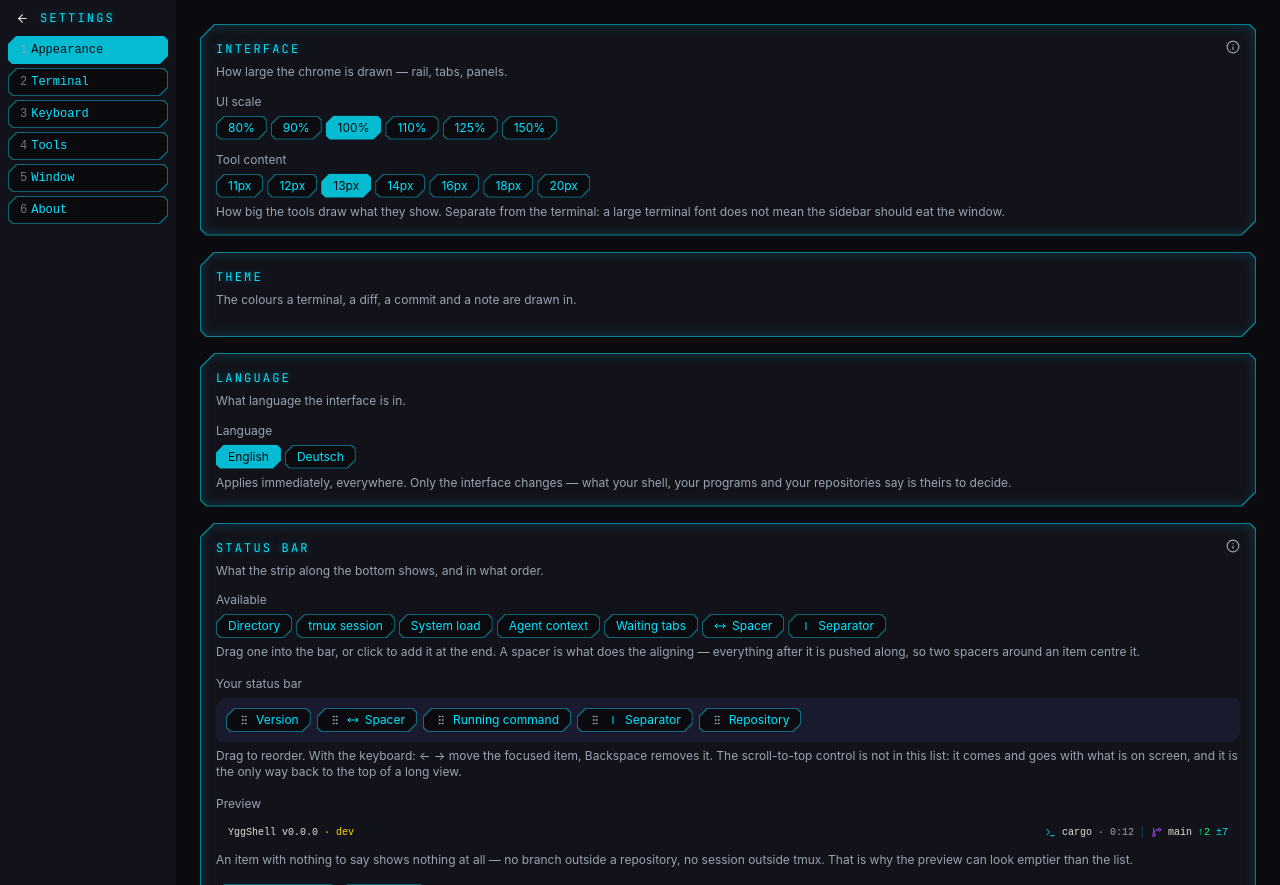
it: SettingsView › shows only the selected section
Check: the button "100%" is shown, box [326,116,381,140]
Check: the button "Quit app" is not shown
Click the tab "5Window" at (88, 178), box [8,164,168,192]
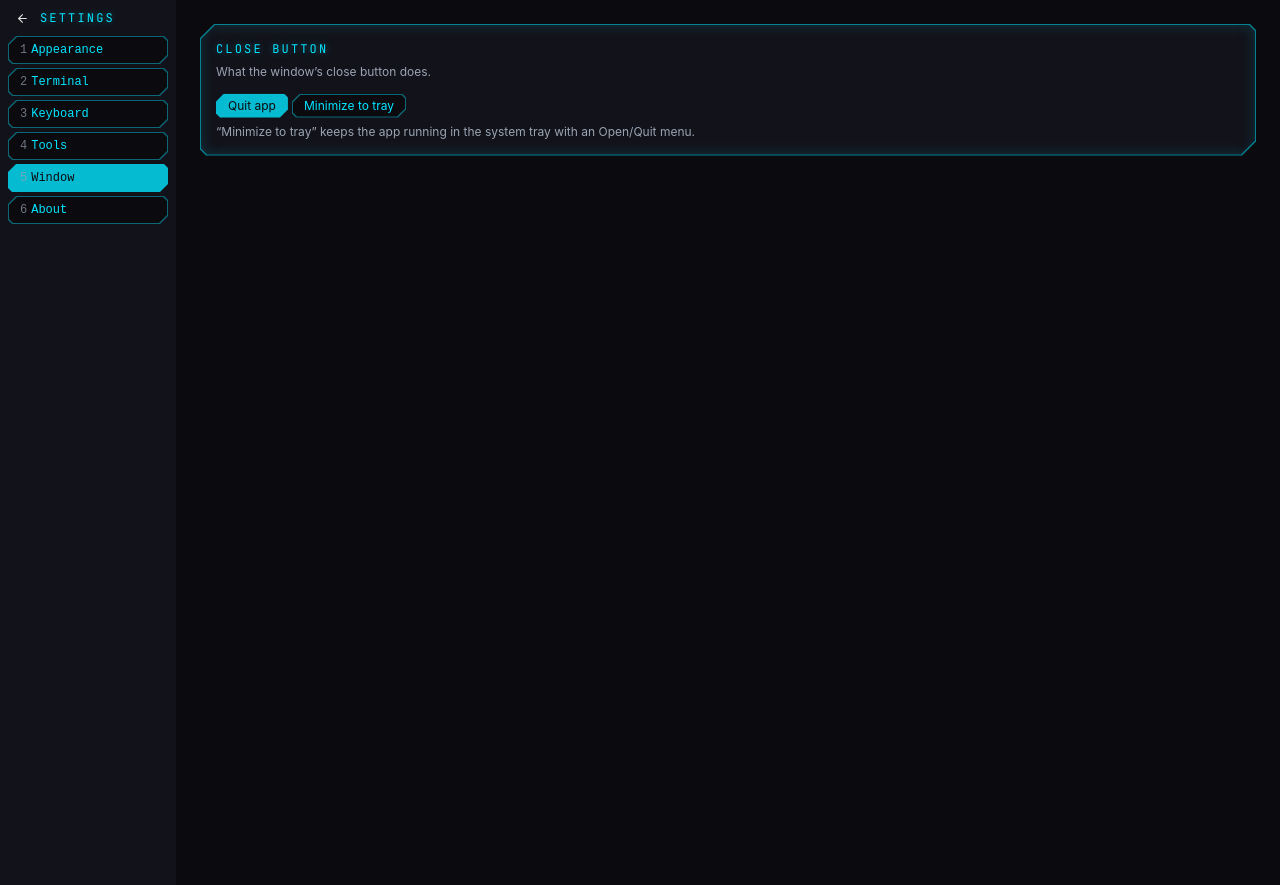
Check: the button "Quit app" is shown, box [216,94,288,118]
Check: the button "100%" is gone
